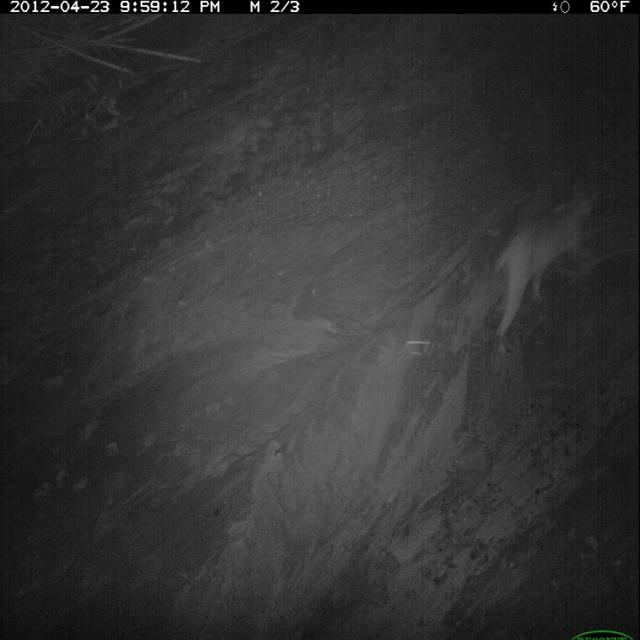bobcat: (491, 167, 602, 361)
